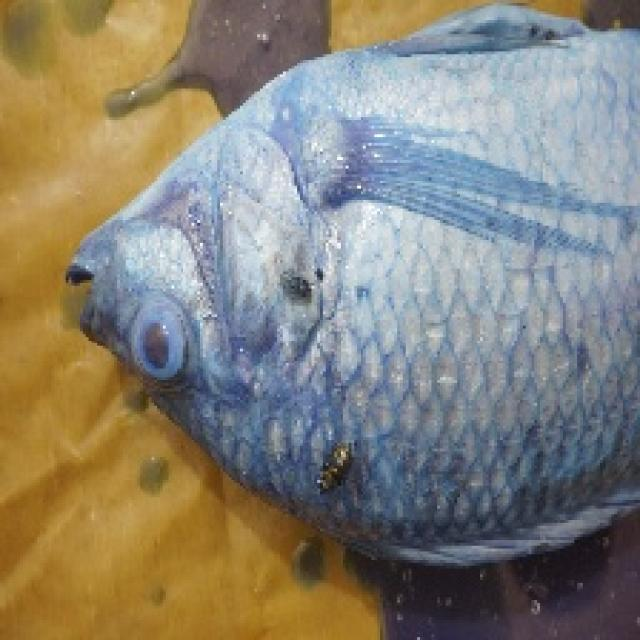Non-Fresh: (73, 99, 640, 535), (120, 279, 223, 399)
